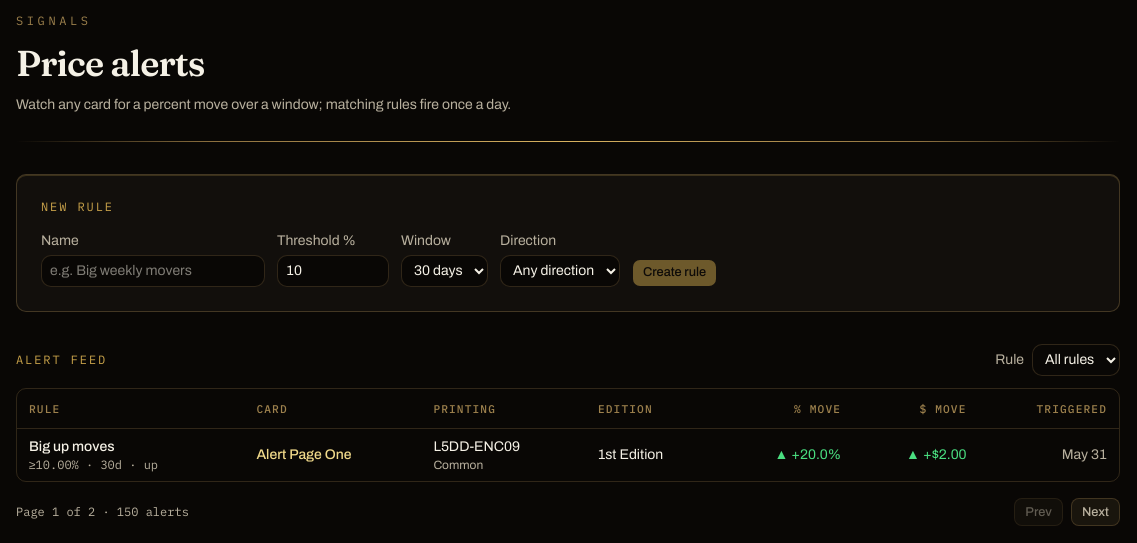
it: AlertsPage — feed › pages forward, preserving the rule filter (none here)
Check: the link "Alert Page One" is shown, box x1=256 y1=447 x2=352 y2=462
Click the button "Next".
click(1095, 512)  # box x1=1071 y1=498 x2=1120 y2=526
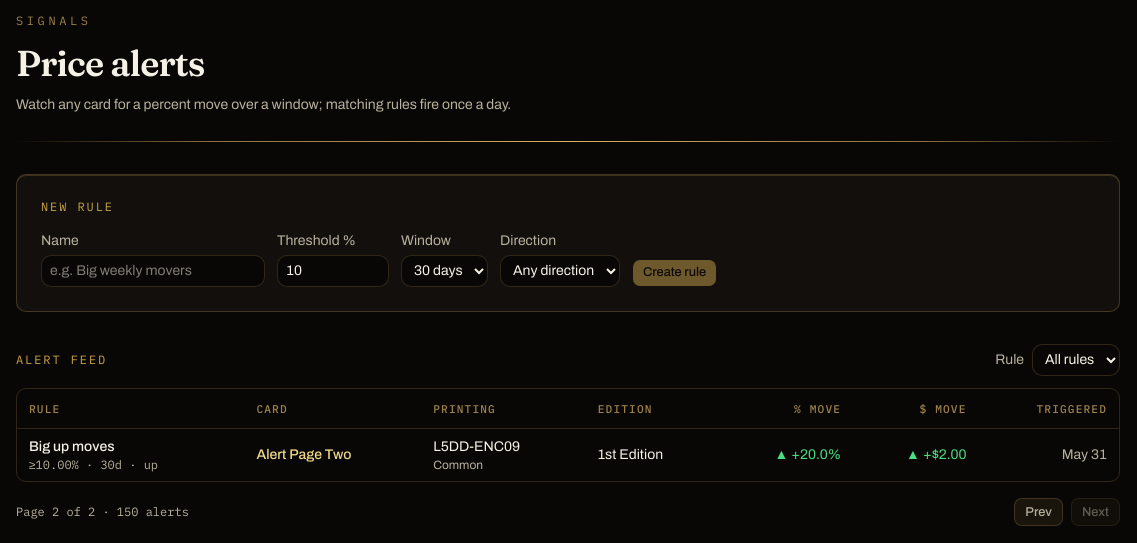
Check: the link "Alert Page Two" is shown, box x1=256 y1=447 x2=351 y2=462
